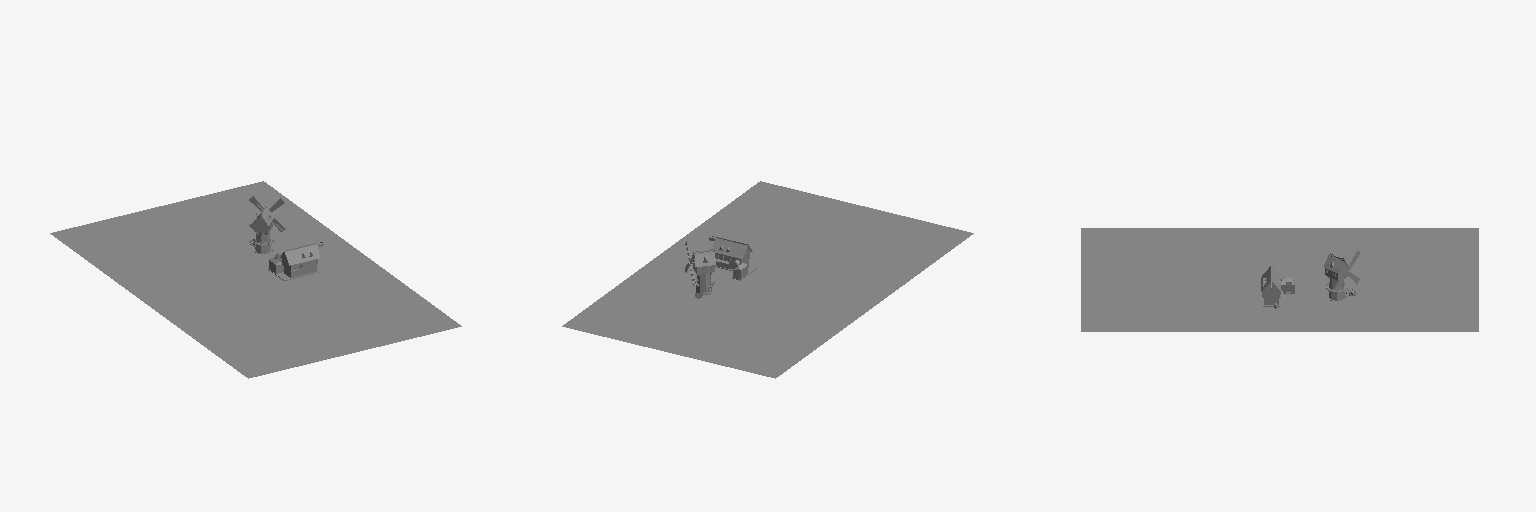
The model's file is beautiWorld.obj.
The picture shows the model from 3 angles: view 1: azimuth 30°, elevation 25°; view 2: azimuth 150°, elevation 25°; view 3: azimuth 270°, elevation 25°; orthographic projection.
Visible parts, largest first — view 1: ____; view 2: ____; view 3: ____.
Boxes of the visible parts, x1=… form: ____: x1=50, y1=181, x2=461, y2=378; ____: x1=562, y1=181, x2=973, y2=378; ____: x1=1081, y1=228, x2=1478, y2=331.
Size of the model in its own units: 1703 by 363 by 2737.